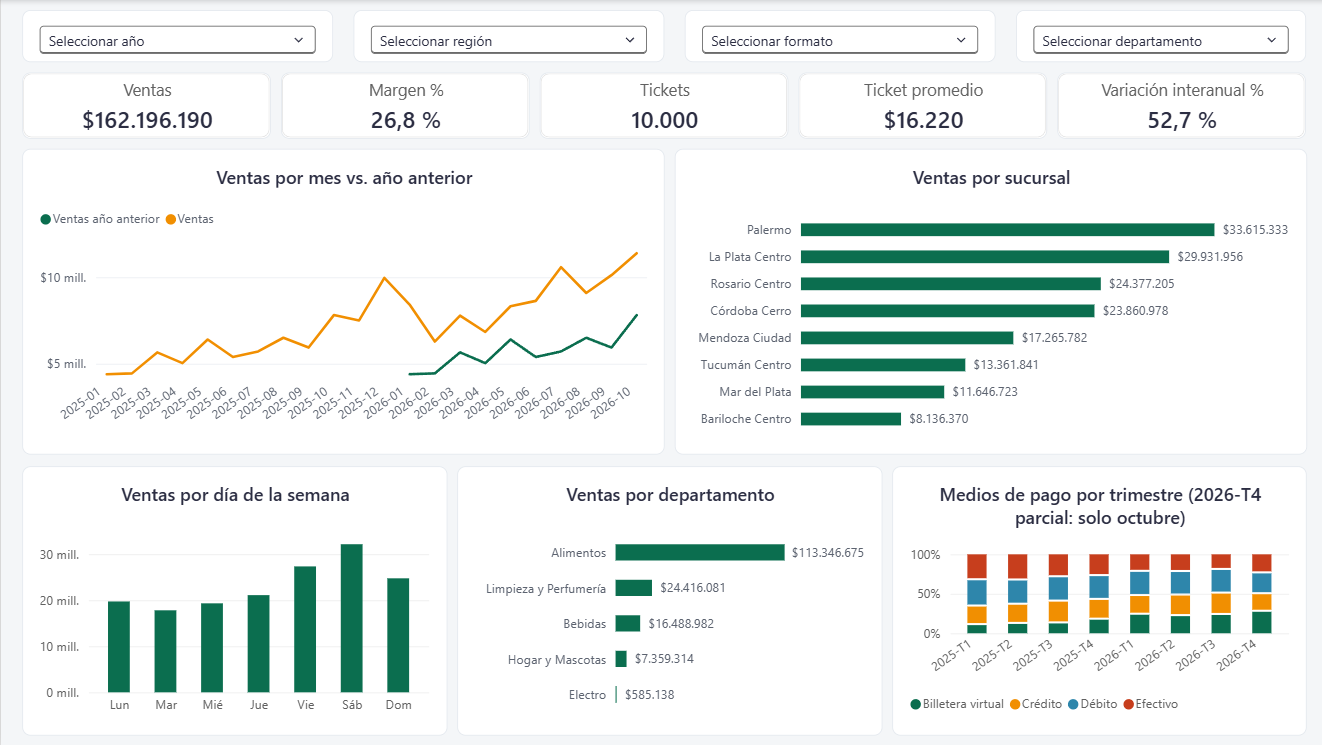

The page's visual inventory and layout, read from the dashboard file:
{"tool":"powerbi","page":{"name":"Ventas","canvas":[1280,720],"ordinal":0},"visuals":[{"type":"listSlicer","fields":{"Values":["Calendario.Año"]},"box":[20,10,300,50],"z":0},{"type":"listSlicer","fields":{"Values":["dim_sucursal.region"]},"box":[340,10,300,50],"z":1000},{"type":"listSlicer","fields":{"Values":["dim_sucursal.formato"]},"box":[660,10,300,50],"z":2000},{"type":"listSlicer","fields":{"Values":["dim_producto.departamento"]},"box":[980,10,280,50],"z":3000},{"type":"cardVisual","fields":{"Data":["_Medidas.Ventas"]},"box":[20,70,240,64],"z":4000},{"type":"cardVisual","fields":{"Data":["_Medidas.Margen %"]},"box":[270,70,240,64],"z":5000},{"type":"cardVisual","fields":{"Data":["_Medidas.Tickets"]},"box":[520,70,240,64],"z":6000},{"type":"cardVisual","fields":{"Data":["_Medidas.Ticket promedio"]},"box":[770,70,240,64],"z":7000},{"type":"cardVisual","fields":{"Data":["_Medidas.Variación interanual %"]},"box":[1020,70,240,64],"z":8000},{"type":"lineChart","title":"Ventas por mes vs. año anterior","fields":{"Category":["Calendario.Año-Mes"],"Y":["_Medidas.Ventas año anterior","_Medidas.Ventas"]},"box":[20.3,144,620,295],"z":9000},{"type":"clusteredBarChart","title":"Ventas por sucursal","fields":{"Category":["dim_sucursal.sucursal"],"Y":["_Medidas.Ventas"]},"box":[650,144,610,295],"z":10000},{"type":"clusteredColumnChart","title":"Ventas por día de la semana","fields":{"Category":["Calendario.Día semana"],"Y":["Sum(fact_ventas.importe)"]},"box":[20,450,410,260],"z":11000},{"type":"clusteredBarChart","title":"Ventas por departamento","fields":{"Category":["dim_producto.departamento"],"Y":["_Medidas.Ventas"]},"box":[440,450,410,260],"z":12000},{"type":"hundredPercentStackedColumnChart","title":"Medios de pago por trimestre (2026-T4 parcial: solo octubre)","fields":{"Category":["Calendario.Año-Trimestre"],"Series":["fact_ventas.medio_pago"],"Y":["_Medidas.Ventas"]},"box":[860,450,400,260],"z":13000}]}

Visuals, with their boxes in screenshot pixels (x1, y1, x2, y2), scaled from the page's 1280x720 canvas onto the 1322x745 screenshot:
listSlicer - Calendario.Año: <box>21,10,330,62</box>
listSlicer - dim_sucursal.region: <box>351,10,661,62</box>
listSlicer - dim_sucursal.formato: <box>682,10,991,62</box>
listSlicer - dim_producto.departamento: <box>1012,10,1301,62</box>
cardVisual - _Medidas.Ventas: <box>21,72,269,139</box>
cardVisual - _Medidas.Margen %: <box>279,72,527,139</box>
cardVisual - _Medidas.Tickets: <box>537,72,785,139</box>
cardVisual - _Medidas.Ticket promedio: <box>795,72,1043,139</box>
cardVisual - _Medidas.Variación interanual %: <box>1053,72,1301,139</box>
"Ventas por mes vs. año anterior" lineChart: <box>21,149,661,454</box>
"Ventas por sucursal" clusteredBarChart: <box>671,149,1301,454</box>
"Ventas por día de la semana" clusteredColumnChart: <box>21,466,444,735</box>
"Ventas por departamento" clusteredBarChart: <box>454,466,878,735</box>
"Medios de pago por trimestre (2026-T4 parcial: solo octubre)" hundredPercentStackedColumnChart: <box>888,466,1301,735</box>
